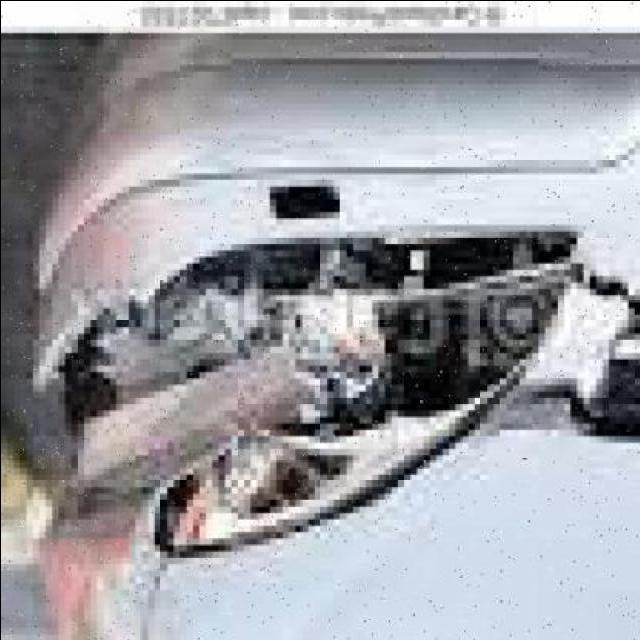Headlight-Damage: (6, 219, 640, 563)
